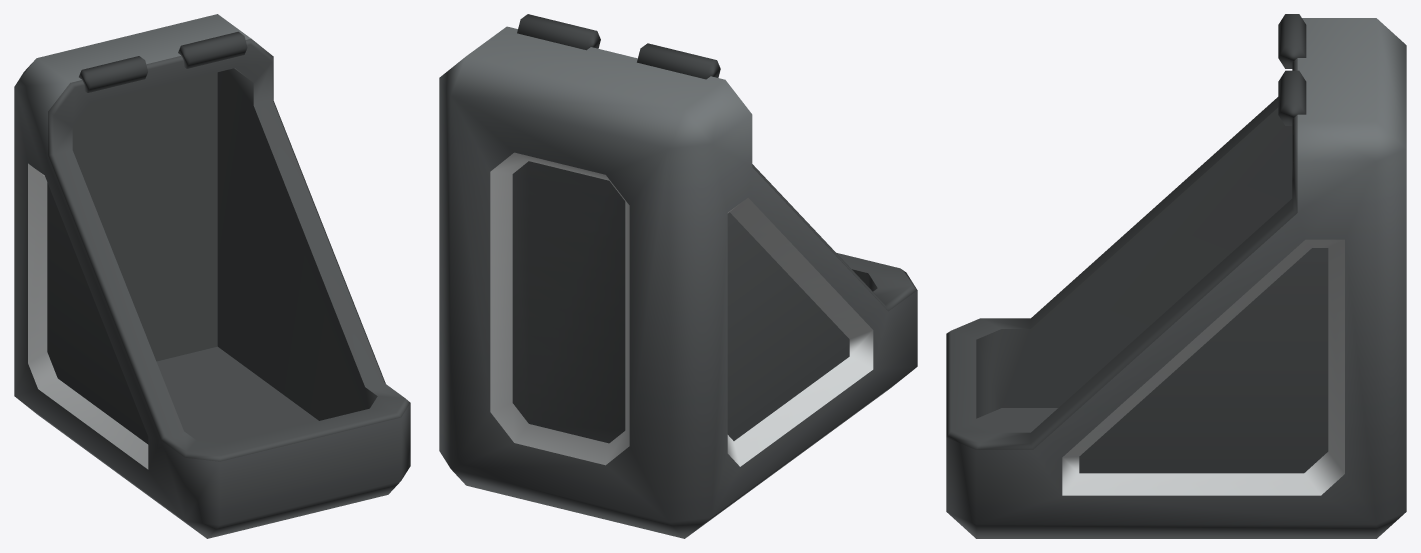
The model's file is Crate_006.fbx.
The picture shows the model from 3 angles, left to right: view 1: azimuth 30°, elevation 25°; view 2: azimuth 150°, elevation 25°; view 3: azimuth 270°, elevation 25°; orthographic projection. The views are drawn at different scales.
Parts seen in each view (by area): view 1: Crate_006; view 2: Crate_006; view 3: Crate_006.
Part boxes in pixels (x1,y1,x2,y2): Crate_006: [14, 14, 410, 538]; Crate_006: [439, 14, 917, 538]; Crate_006: [946, 14, 1406, 538].
Bounding box in the file's own units: 44.97 × 67.82 × 69.62.
